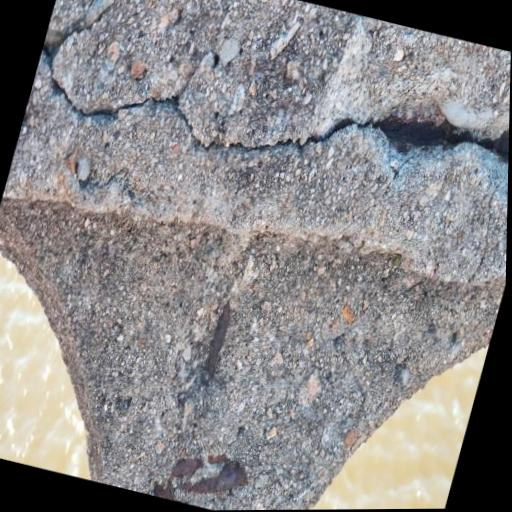exposed_rebar: (177, 454, 247, 494), (206, 302, 231, 375), (168, 458, 203, 481), (154, 483, 174, 500)
